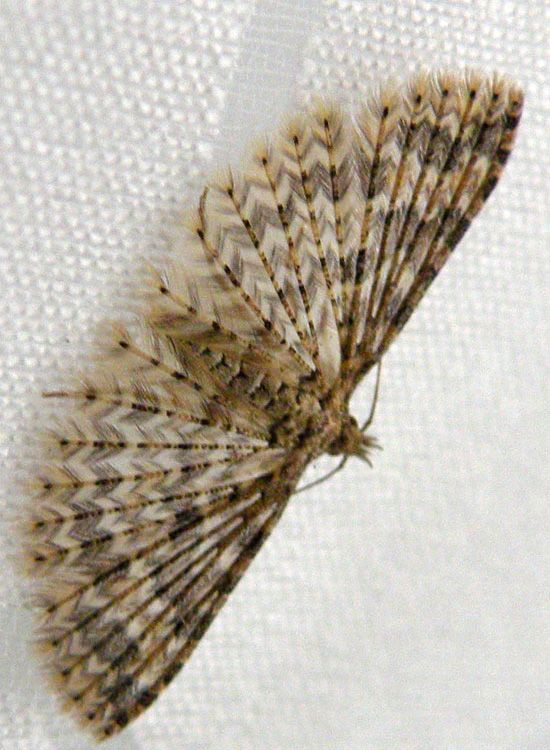Alucitidae: (10, 64, 530, 747)
moth: (12, 66, 532, 749)
